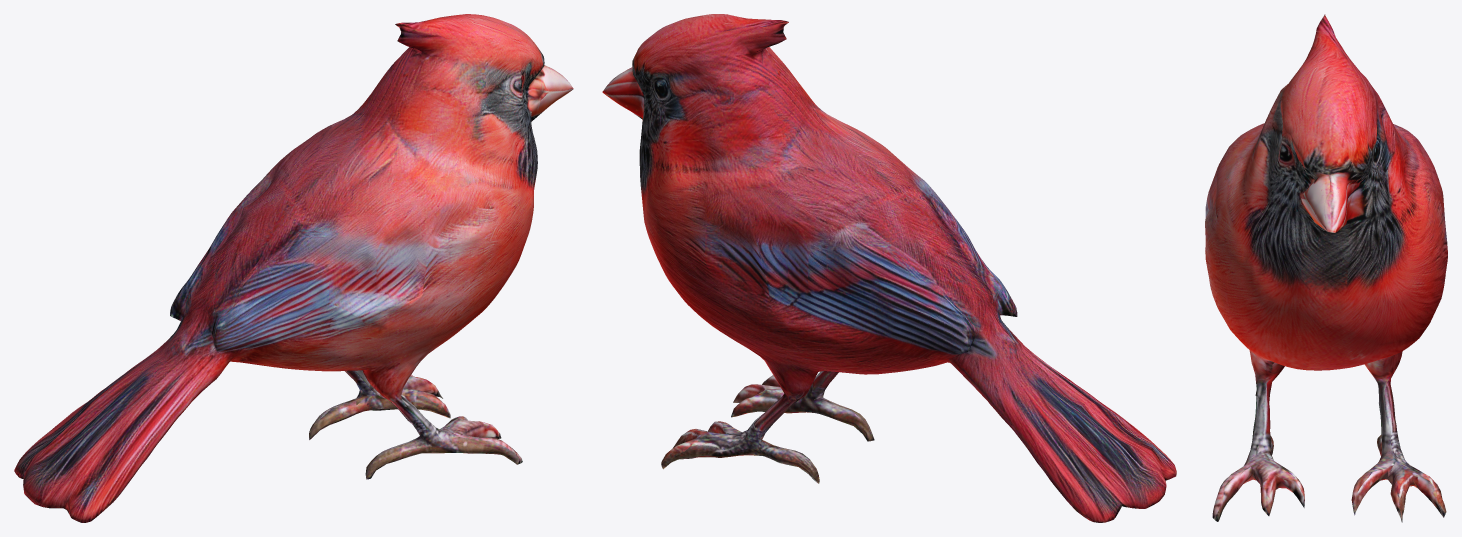
The model's file is A_red_cardinal_bird.fbx.
3 views of the same model, side by side, from view 1: azimuth 30°, elevation 25°; view 2: azimuth 150°, elevation 25°; view 3: azimuth 270°, elevation 25° (orthographic). The views are drawn at different scales.
Parts seen in each view (by area): view 1: Mesh_0; view 2: Mesh_0; view 3: Mesh_0.
Boxes of the visible parts, x1,y1,x2,y2 form: Mesh_0: [14, 14, 573, 522]; Mesh_0: [602, 14, 1176, 522]; Mesh_0: [1205, 14, 1447, 522].
Size of the model in its own units: 120 by 88.99 by 41.88.
Materials: 1 (1 with a texture image).
